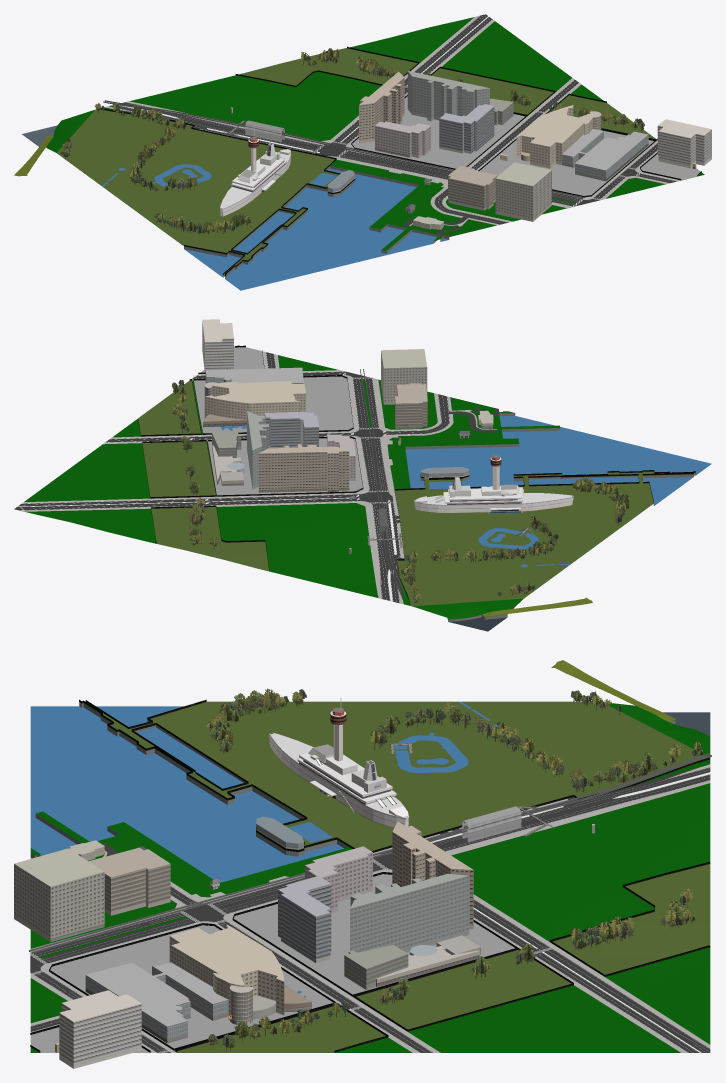
The picture shows the model from 3 angles, top to bottom: view 1: azimuth 30°, elevation 25°; view 2: azimuth 150°, elevation 25°; view 3: azimuth 270°, elevation 25°; orthographic projection. The views are drawn at different scales.
Parts seen in each view (by area): view 1: 005339_07012_facilligreen, 005339_07012_ground, 005339_07012_water, 005339_07012_road, 005339_07012_facilli, 005339_07012_walk, 005339_07012_61000G_-10110501_buildtarget, 005339_07012_66000G_-9738301_build10Fover, 005339_07012_61000G_-10100501_buildtarget, 005339_07012_66000G_-10100801_build10Fover, 005339_07012_61000G_-9740601_buildtarget, 005339_07012_61000G_-10100401_buildtarget (+7 smaller); view 2: 005339_07012_facilligreen, 005339_07012_ground, 005339_07012_water, 005339_07012_road, 005339_07012_facilli, 005339_07012_walk, 005339_07012_66000G_-10051001_build10Fover, 005339_07012_61000G_-9740601_buildtarget, 005339_07012_61000G_-10110501_buildtarget, 005339_07012_66000G_-10100801_build10Fover, 005339_07012_66000G_-10021001_build10Fover, 005339_07012_61000G_-10100401_buildtarget (+8 smaller); view 3: 005339_07012_facilligreen, 005339_07012_ground, 005339_07012_water, 005339_07012_road, 005339_07012_facilli, 005339_07012_walk, 005339_07012_66000G_-9738301_build10Fover, 005339_07012_66000G_-10100801_build10Fover, 005339_07012_61000G_-9740601_buildtarget, 005339_07012_61000G_-10100501_buildtarget, 005339_07012_61000G_-10110501_buildtarget, 005339_07012_61000G_-10100401_buildtarget (+11 smaller).
Part boxes in pixels (x1,y1,x2,y2): 005339_07012_facilligreen: [14, 46, 657, 275]; 005339_07012_ground: [22, 17, 704, 276]; 005339_07012_water: [102, 164, 449, 290]; 005339_07012_road: [109, 14, 676, 236]; 005339_07012_facilli: [351, 95, 701, 197]; 005339_07012_walk: [105, 15, 680, 226]; 005339_07012_61000G_-10110501_buildtarget: [516, 105, 593, 168]; 005339_07012_66000G_-9738301_build10Fover: [407, 71, 489, 121]; 005339_07012_61000G_-10100501_buildtarget: [562, 129, 648, 181]; 005339_07012_66000G_-10100801_build10Fover: [495, 162, 551, 221]; 005339_07012_61000G_-9740601_buildtarget: [220, 128, 290, 216]; 005339_07012_61000G_-10100401_buildtarget: [657, 119, 711, 168]; 005339_07012_facilligreen: [138, 379, 695, 616]; 005339_07012_ground: [24, 345, 693, 631]; 005339_07012_water: [220, 413, 711, 567]; 005339_07012_road: [14, 352, 499, 603]; 005339_07012_facilli: [193, 345, 363, 496]; 005339_07012_walk: [19, 351, 496, 604]; 005339_07012_66000G_-10051001_build10Fover: [258, 444, 349, 492]; 005339_07012_61000G_-9740601_buildtarget: [414, 448, 573, 513]; 005339_07012_61000G_-10110501_buildtarget: [204, 381, 305, 419]; 005339_07012_66000G_-10100801_build10Fover: [381, 349, 427, 404]; 005339_07012_66000G_-10021001_build10Fover: [265, 411, 318, 448]; 005339_07012_61000G_-10100401_buildtarget: [202, 319, 233, 372]; 005339_07012_facilligreen: [79, 660, 710, 1052]; 005339_07012_ground: [30, 702, 710, 1052]; 005339_07012_water: [30, 701, 498, 997]; 005339_07012_road: [28, 767, 710, 1054]; 005339_07012_facilli: [30, 872, 517, 1052]; 005339_07012_walk: [30, 764, 710, 1052]; 005339_07012_66000G_-9738301_build10Fover: [350, 873, 469, 952]; 005339_07012_66000G_-10100801_build10Fover: [14, 848, 104, 941]; 005339_07012_61000G_-9740601_buildtarget: [269, 697, 408, 828]; 005339_07012_61000G_-10100501_buildtarget: [85, 962, 228, 1043]; 005339_07012_61000G_-10110501_buildtarget: [169, 925, 284, 1015]; 005339_07012_61000G_-10100401_buildtarget: [59, 990, 141, 1068].
Bounding box in the file's own units: 800 × 94.1 × 578.
Materials: 17 (17 with a texture image).
